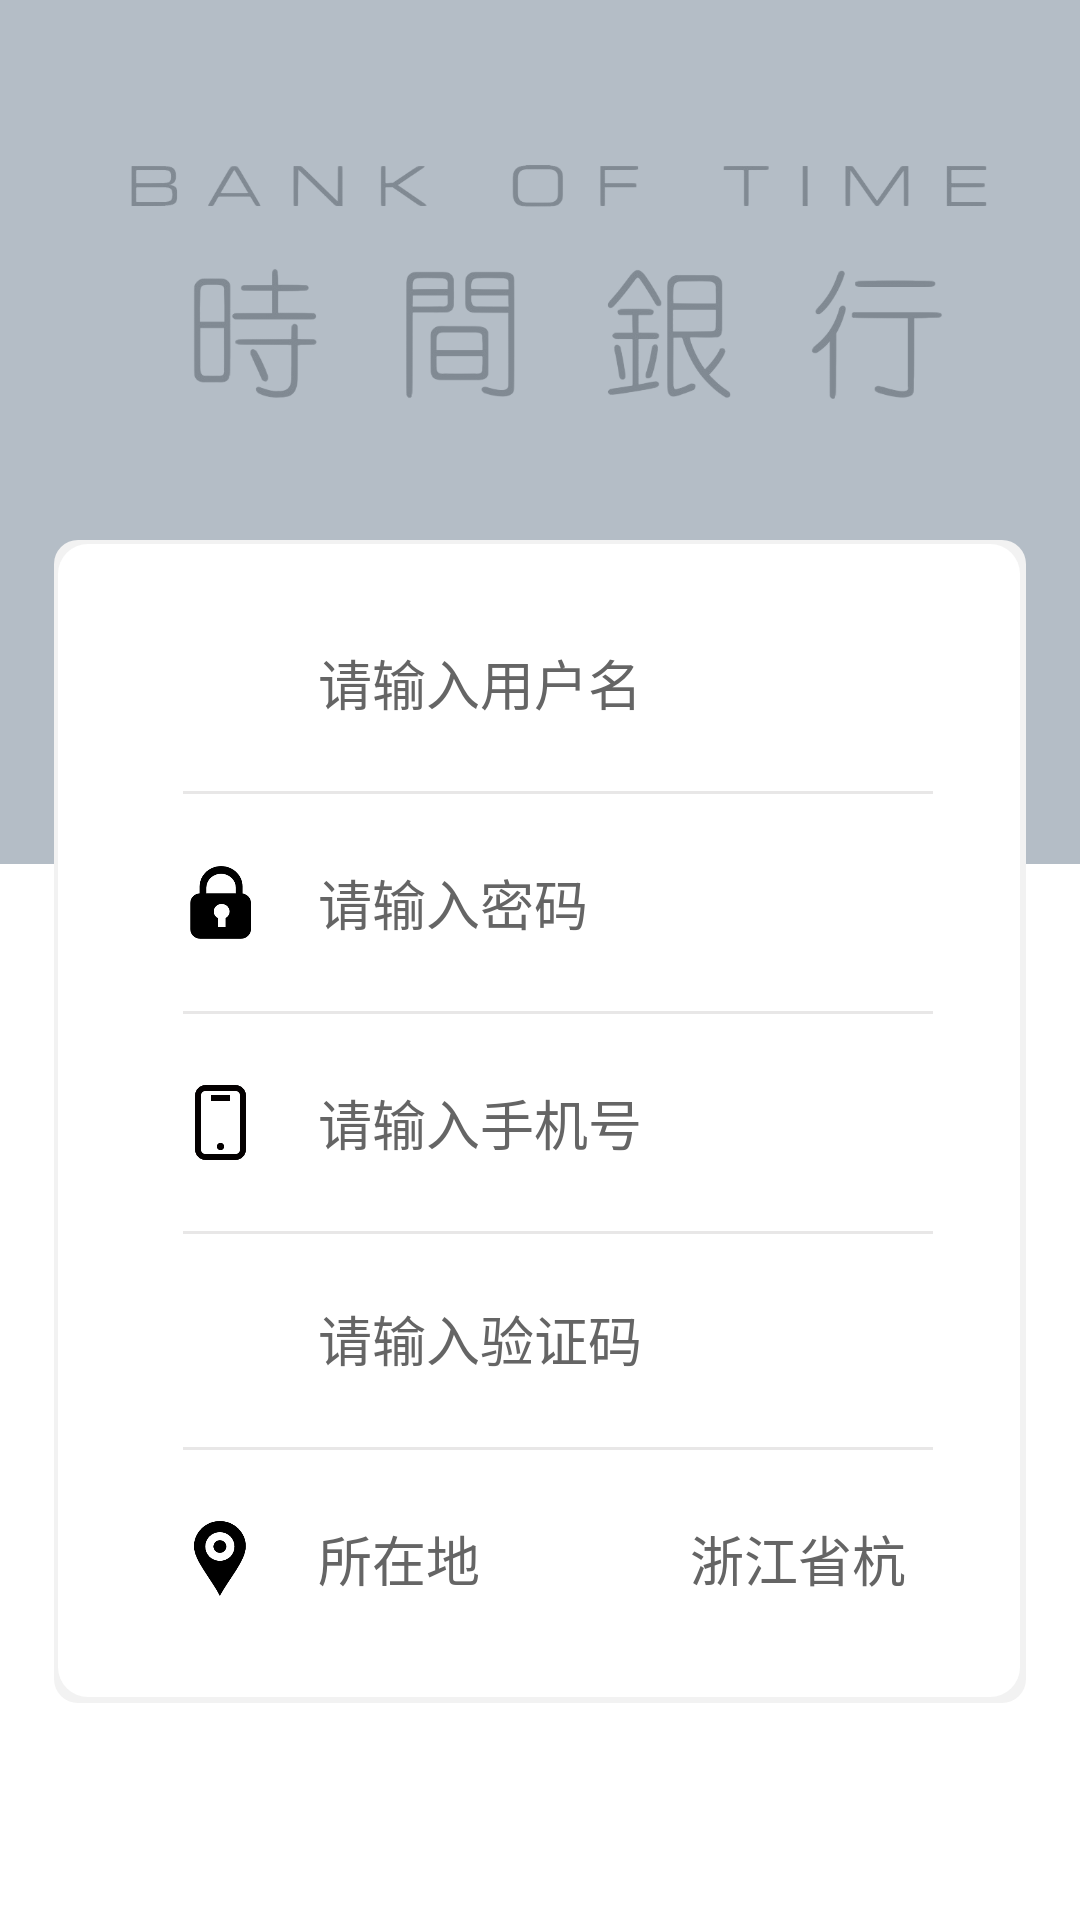

Icon bounding boxes for this 1080px x 1920px phone screenshot, format region(x1, y1, x2, y2):
location: region(194, 1521, 246, 1596)
login password: region(190, 866, 251, 939)
login phone: region(195, 1085, 246, 1160)
